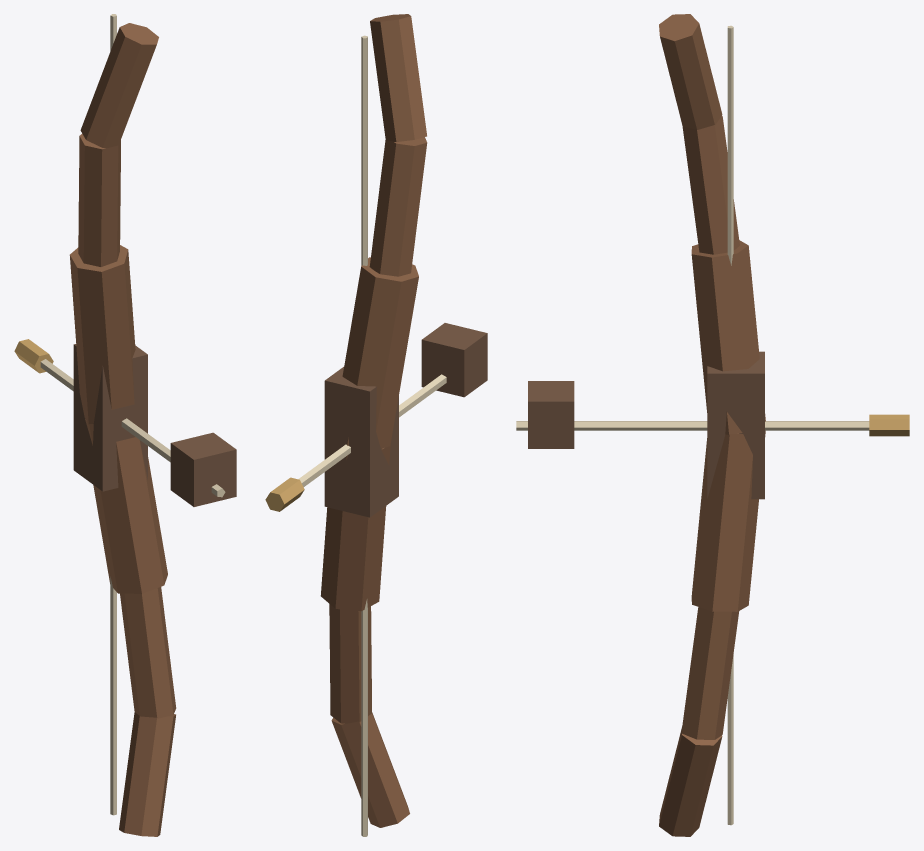
Rendered from dusk-longbow.glb.
3 views of the same model, side by side, from view 1: azimuth 30°, elevation 25°; view 2: azimuth 150°, elevation 25°; view 3: azimuth 270°, elevation 25° (orthographic).
Visible parts, largest first — view 1: ReceiverGeometry, ArrowGeometry; view 2: ReceiverGeometry, ArrowGeometry; view 3: ReceiverGeometry, ArrowGeometry.
Boxes of the visible parts, left/top/right/bottom form: ReceiverGeometry: left=69, top=14, right=176, bottom=836; ArrowGeometry: left=14, top=339, right=236, bottom=506; ReceiverGeometry: left=320, top=14, right=427, bottom=836; ArrowGeometry: left=265, top=323, right=487, bottom=511; ReceiverGeometry: left=659, top=14, right=765, bottom=836; ArrowGeometry: left=516, top=381, right=909, bottom=448.
Bounding box in the file's own units: 0.182 × 1.54 × 0.68.
